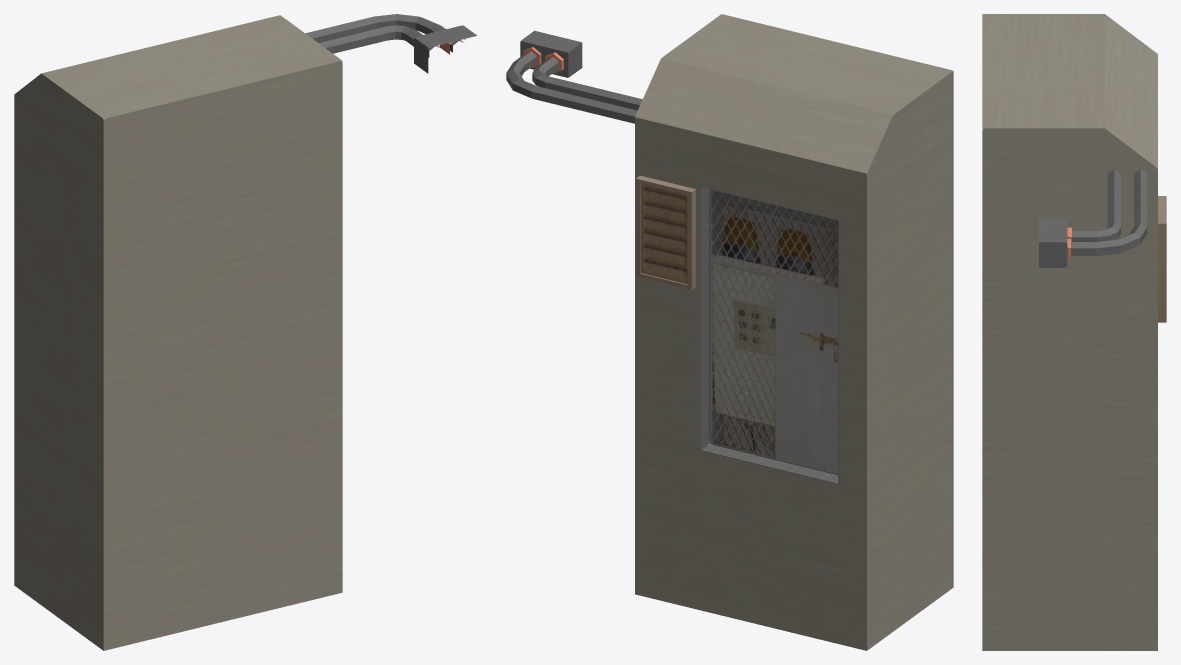
Rendered from tank_control_panel.glb.
3 renders of one model, left to right at view 1: azimuth 30°, elevation 25°; view 2: azimuth 150°, elevation 25°; view 3: azimuth 270°, elevation 25°, orthographic. The views are drawn at different scales.
Parts seen in each view (by area): view 1: tank_control_panel; view 2: tank_control_panel; view 3: tank_control_panel.
Part boxes in pixels (left/top/right/bottom): tank_control_panel: left=14, top=14, right=477, bottom=650; tank_control_panel: left=506, top=14, right=953, bottom=650; tank_control_panel: left=982, top=14, right=1166, bottom=650.
Size of the model in its own units: 2.76 by 3.48 by 1.11.
1 material, 1 textured.
